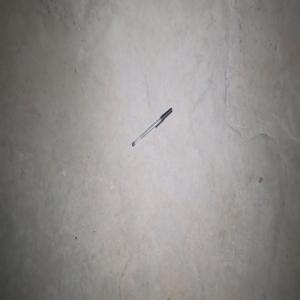Pen: (131, 107, 172, 146)
